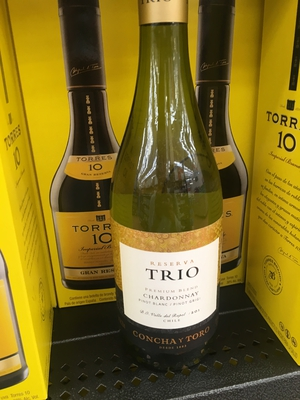trio chardonnay: (98, 24, 250, 351)
